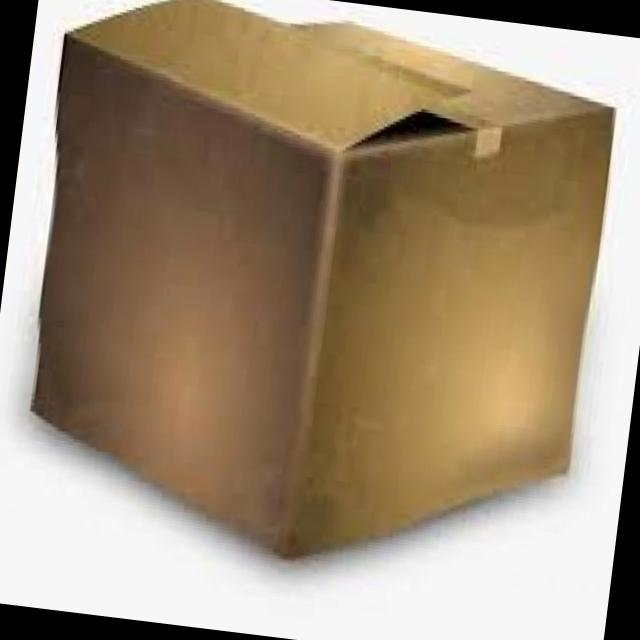cardboard paper: (34, 0, 613, 551)
